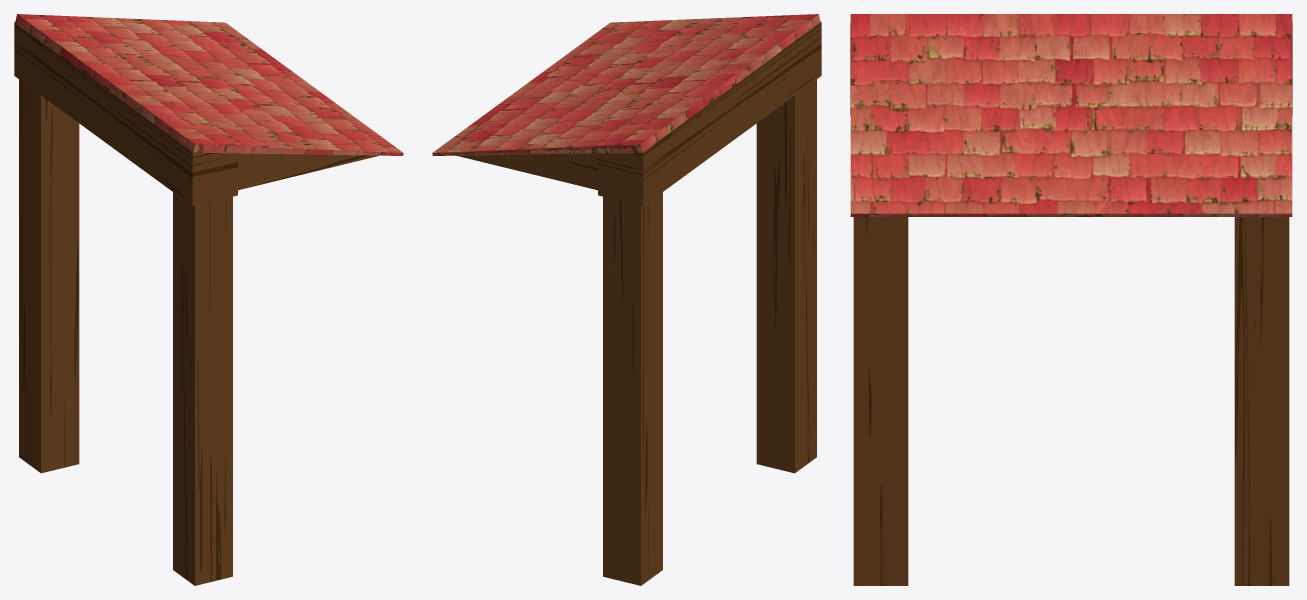
The model's file is Рама.fbx.
3 renders of one model, left to right at view 1: azimuth 30°, elevation 25°; view 2: azimuth 150°, elevation 25°; view 3: azimuth 270°, elevation 25°, orthographic. The views are drawn at different scales.
Parts seen in each view (by area): view 1: Cube; view 2: Cube; view 3: Cube.
Part boxes in pixels (x1,y1,x2,y2): Cube: (14,14,403,585); Cube: (432,14,821,585); Cube: (850,14,1292,585).
Bounding box in the file's own units: 1.37 × 2.74 × 2.
